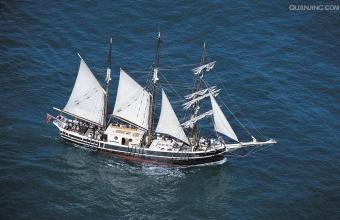fanchuan: (46, 33, 276, 164)
